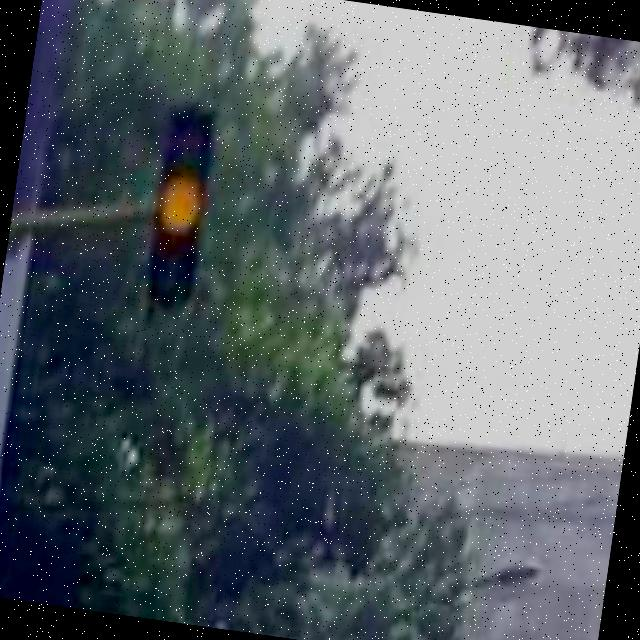Zolte swiatlo: (140, 101, 220, 308)
